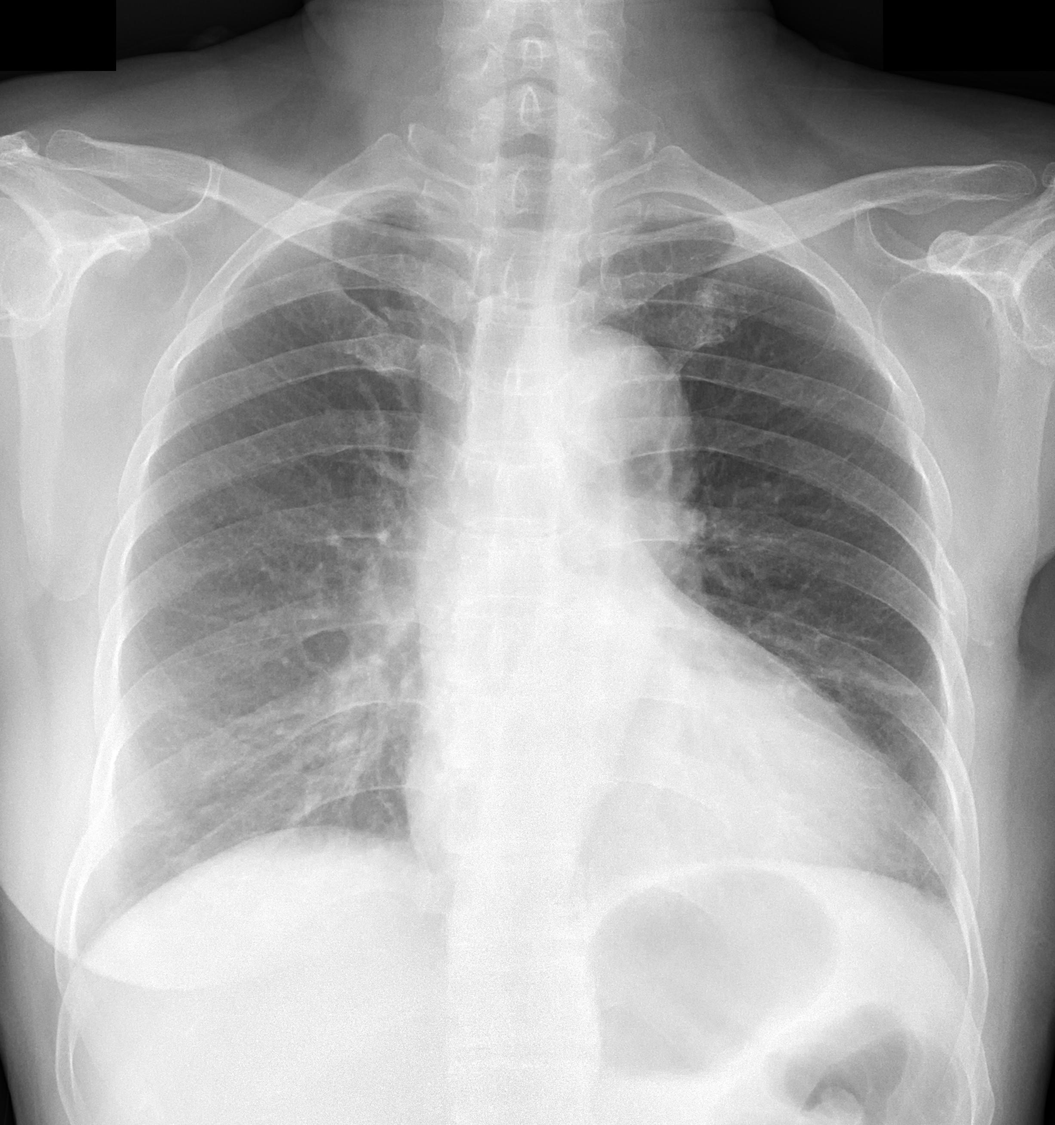Aortic enlargement: (520, 324, 698, 494)
Cardiomegaly: (400, 745, 916, 884)
Pleural thickening: (331, 181, 445, 223), (613, 190, 714, 221)
